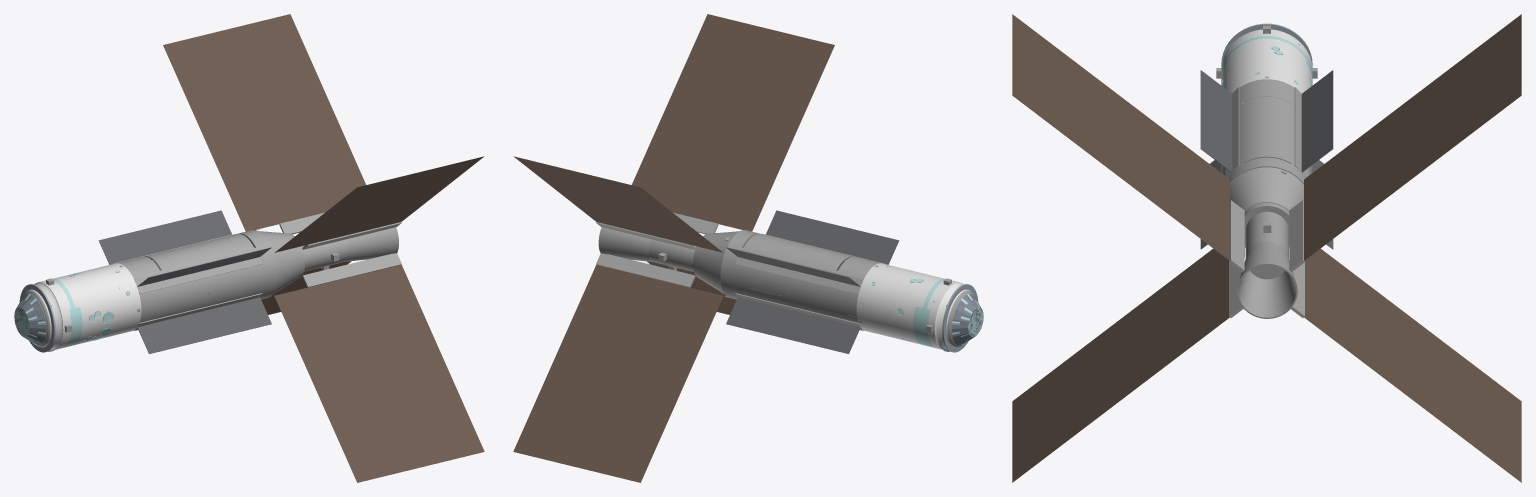
Rendered from wayfarer_shuttle_hold_fullship_88ce19fc_torch_closed.glb.
3 renders of one model, left to right at view 1: azimuth 30°, elevation 25°; view 2: azimuth 150°, elevation 25°; view 3: azimuth 270°, elevation 25°, orthographic. The views are drawn at different scales.
Visible parts, largest first — view 1: dry:armor, dry:skin_midship, dry:hotfin_220:pleat_13, dry:hotfin_40:pleat_04, dry:hotfin_220:pleat_09, dry:hotfin_40:pleat_02, dry:hotfin_220:pleat_04, dry:hotfin_220:pleat_07, dry:hotfin_220:pleat_11, dry:hotfin_40:pleat_03, dry:hotfin_40:pleat_05, dry:hotfin_40:pleat_08 (+47 smaller); view 2: dry:armor, dry:skin_midship, dry:hotfin_320:pleat_13, dry:hotfin_140:pleat_04, dry:hotfin_320:pleat_09, dry:hotfin_140:pleat_02, dry:hotfin_320:pleat_04, dry:hotfin_320:pleat_07, dry:hotfin_320:pleat_11, dry:hotfin_140:pleat_03, dry:hotfin_140:pleat_05, dry:hotfin_140:pleat_08 (+47 smaller); view 3: dry:armor, dry:nozzle, dry:thrust_cone, dry:reactor, dry:door_port, dry:door_starboard, dry:hotfin_220:pleat_03, dry:hotfin_320:pleat_03, dry:hotfin_40:pleat_05, dry:hotfin_40:pleat_07, dry:hotfin_140:pleat_05, dry:hotfin_140:pleat_07 (+63 smaller).
Boxes of the visible parts, box(x1,y1,x2,y2) form: dry:armor: box(23, 263, 141, 350); dry:skin_midship: box(160, 247, 263, 316); dry:hotfin_220:pleat_13: box(351, 438, 484, 482); dry:hotfin_40:pleat_04: box(216, 134, 349, 178); dry:hotfin_220:pleat_09: box(327, 385, 460, 429); dry:hotfin_40:pleat_02: box(228, 161, 361, 205); dry:hotfin_220:pleat_04: box(298, 318, 431, 362); dry:hotfin_220:pleat_07: box(316, 358, 448, 402); dry:hotfin_220:pleat_11: box(339, 412, 472, 455); dry:hotfin_40:pleat_03: box(222, 147, 355, 191); dry:hotfin_40:pleat_05: box(210, 121, 343, 165); dry:hotfin_40:pleat_08: box(193, 81, 325, 125); dry:armor: box(856, 263, 974, 350); dry:skin_midship: box(734, 247, 837, 316); dry:hotfin_320:pleat_13: box(513, 438, 646, 482); dry:hotfin_140:pleat_04: box(648, 134, 781, 178); dry:hotfin_320:pleat_09: box(537, 385, 670, 429); dry:hotfin_140:pleat_02: box(636, 161, 769, 205); dry:hotfin_320:pleat_04: box(566, 318, 699, 362); dry:hotfin_320:pleat_07: box(549, 358, 681, 402); dry:hotfin_320:pleat_11: box(525, 412, 658, 455); dry:hotfin_140:pleat_03: box(642, 147, 775, 191); dry:hotfin_140:pleat_05: box(654, 121, 787, 165); dry:hotfin_140:pleat_08: box(672, 81, 804, 125); dry:armor: box(1221, 29, 1312, 93); dry:nozzle: box(1237, 242, 1297, 318); dry:thrust_cone: box(1230, 167, 1303, 247); dry:reactor: box(1245, 211, 1288, 279); dry:door_port: box(1242, 97, 1266, 163); dry:door_starboard: box(1267, 97, 1291, 163); dry:hotfin_220:pleat_03: box(1167, 271, 1183, 364); dry:hotfin_320:pleat_03: box(1350, 271, 1366, 364); dry:hotfin_40:pleat_05: box(1381, 109, 1397, 201); dry:hotfin_40:pleat_07: box(1412, 85, 1428, 177); dry:hotfin_140:pleat_05: box(1136, 109, 1152, 201); dry:hotfin_140:pleat_07: box(1105, 85, 1121, 177).
Size of the model in its own units: 54.5 by 42.11 by 50.18.
